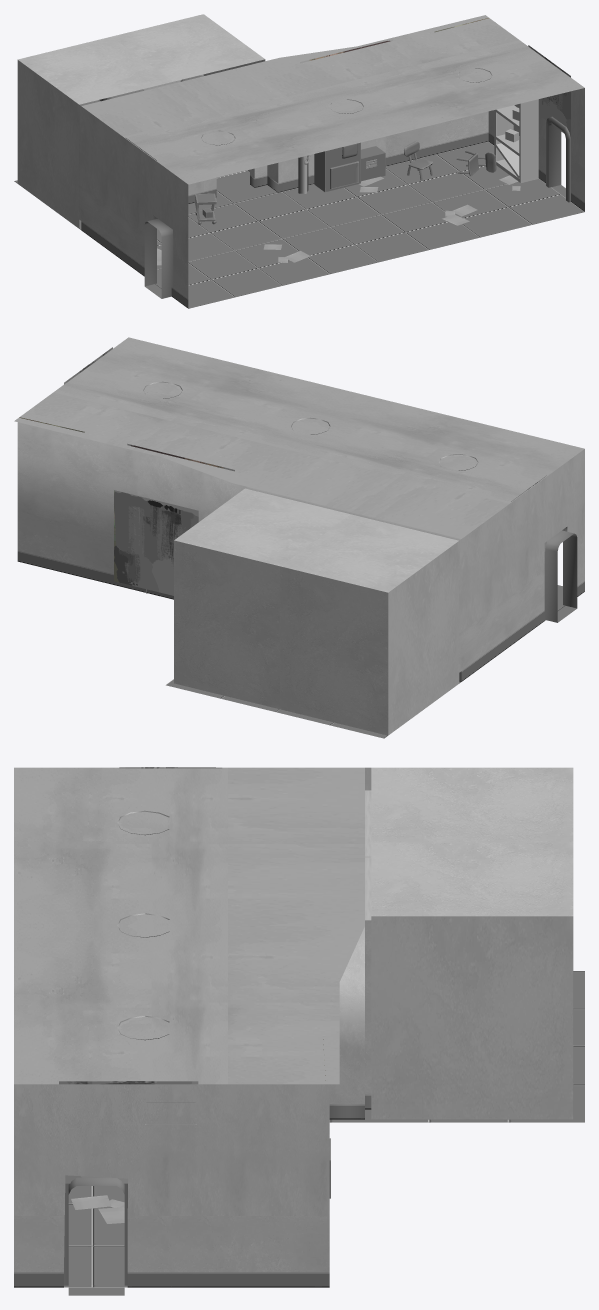
Rendered from MSH_QuestVault_L4_R2_optimized.fbx.
3 views of the same model, one above another, from view 1: azimuth 30°, elevation 25°; view 2: azimuth 150°, elevation 25°; view 3: azimuth 270°, elevation 25° (orthographic). The views are drawn at different scales.
Visible parts, largest first — view 1: lightmap3, lightmap2, lightmap0, MSH_QuestVault_L4_R2_dirt_01, MSH_QuestVault_L4_R2_papers_01, lightmap1; view 2: lightmap3, lightmap2, MSH_QuestVault_L4_R2_dirt_01; view 3: lightmap3, lightmap2, MSH_QuestVault_L4_R2_dirt_01, MSH_QuestVault_L4_R2_papers_01, lightmap1.
Part boxes in pixels (<box>): lightmap3: <box>14,14,584,308</box>; lightmap2: <box>81,15,584,298</box>; lightmap0: <box>201,68,538,182</box>; MSH_QuestVault_L4_R2_dirt_01: <box>126,18,570,219</box>; MSH_QuestVault_L4_R2_papers_01: <box>157,175,520,265</box>; lightmap1: <box>157,116,570,218</box>; lightmap3: <box>17,422,584,738</box>; lightmap2: <box>14,337,584,622</box>; MSH_QuestVault_L4_R2_dirt_01: <box>19,347,546,595</box>; lightmap3: <box>14,767,584,1287</box>; lightmap2: <box>14,767,364,1295</box>; MSH_QuestVault_L4_R2_dirt_01: <box>59,767,326,1183</box>; MSH_QuestVault_L4_R2_papers_01: <box>71,1195,124,1223</box>; lightmap1: <box>64,1183,127,1285</box>.
Bounding box in the file's own units: 20.6 × 6.05 × 14.94.
Materials: 5 (5 with a texture image).
